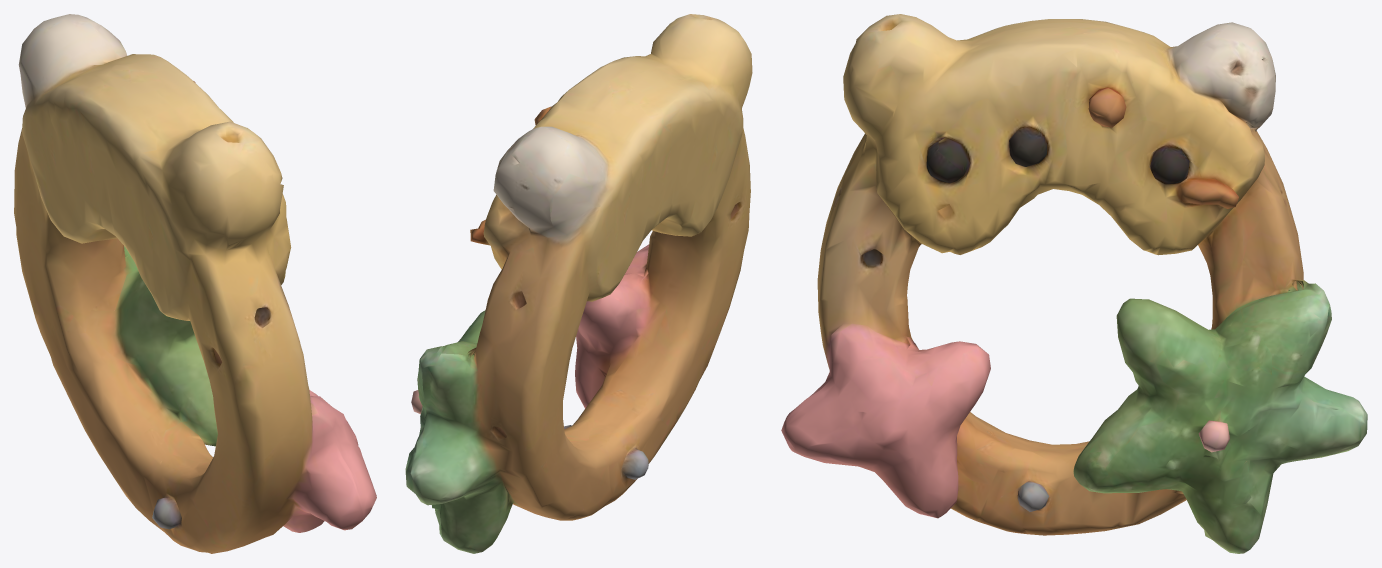
The model's file is rattle.glb.
3 views of the same model, side by side, from view 1: azimuth 30°, elevation 25°; view 2: azimuth 150°, elevation 25°; view 3: azimuth 270°, elevation 25° (orthographic). The views are drawn at different scales.
Parts seen in each view (by area): view 1: tripo_node_158861dc-1d13-40e6-b3e0-f89921b31322; view 2: tripo_node_158861dc-1d13-40e6-b3e0-f89921b31322; view 3: tripo_node_158861dc-1d13-40e6-b3e0-f89921b31322.
Part boxes in pixels (x1,y1,x2,y2): tripo_node_158861dc-1d13-40e6-b3e0-f89921b31322: (14, 14, 376, 553); tripo_node_158861dc-1d13-40e6-b3e0-f89921b31322: (405, 14, 752, 553); tripo_node_158861dc-1d13-40e6-b3e0-f89921b31322: (781, 14, 1367, 553).
Size of the model in its own units: 0.4266 by 0.9206 by 1.
Materials: 1 (1 with a texture image).
